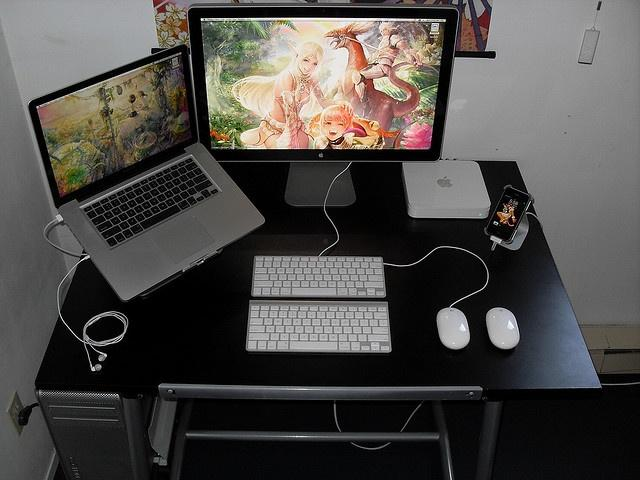AIO PC-Monitor-TV: (185, 3, 459, 163)
Meja: (35, 158, 602, 404)
